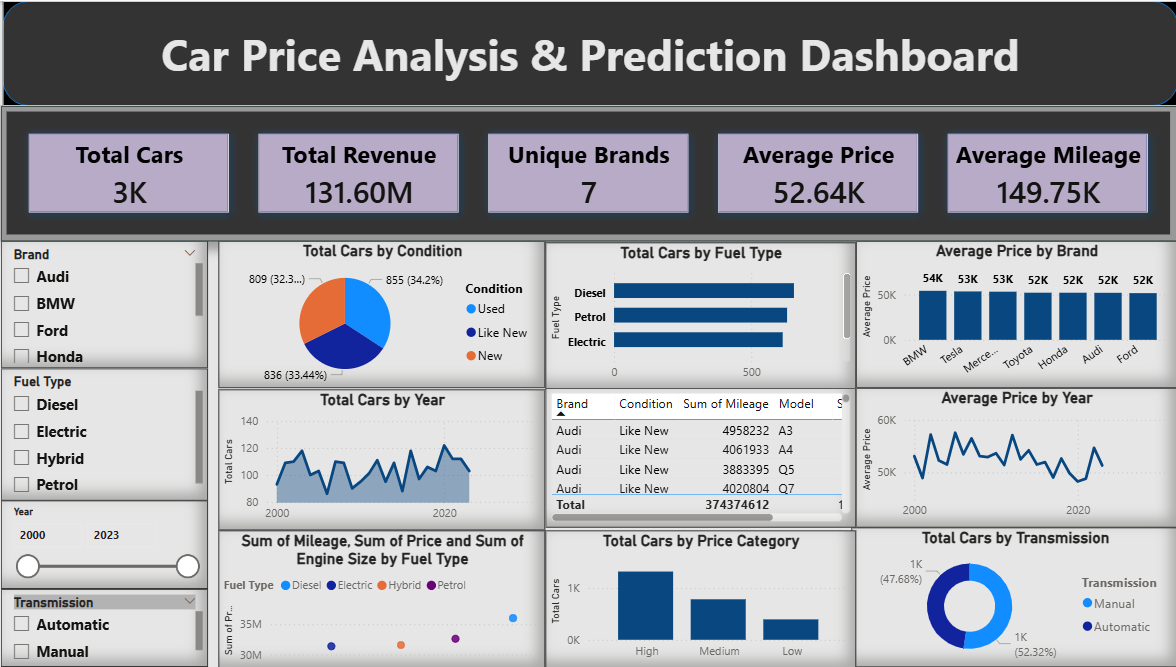

Layout of this report page (visuals, bound fields, positions):
{"tool":"powerbi","page":{"name":"Page 1","canvas":[1280,720],"ordinal":0},"visuals":[{"type":"shape","box":[11.3,0,1269.5,113.3],"z":0},{"type":"cardVisual","fields":{"Data":["car_price_prediction_.Total Cars","car_price_prediction_.Total Revenue","car_price_prediction_.Unique Brands","car_price_prediction_.Average Price","car_price_prediction_.Average Mileage"]},"box":[9.7,113.3,1269.5,145.7],"z":1000},{"type":"clusteredColumnChart","fields":{"Category":["car_price_prediction_.Brand"],"Y":["car_price_prediction_.Average Price"]},"box":[932.7,259.1,346.5,158.7],"z":2000},{"type":"barChart","fields":{"Category":["car_price_prediction_.Fuel Type"],"Y":["car_price_prediction_.Total Cars"]},"box":[597.5,260.7,335.2,158.7],"z":3000},{"type":"pieChart","fields":{"Category":["car_price_prediction_.Condition"],"Y":["car_price_prediction_.Total Cars"]},"box":[244.5,259.1,353,158.7],"z":4000},{"type":"lineChart","fields":{"Y":["car_price_prediction_.Average Price"],"Category":["car_price_prediction_.Year"]},"box":[932.7,417.8,346.5,150.6],"z":5000},{"type":"tableEx","fields":{"Values":["car_price_prediction_.Brand","car_price_prediction_.Condition","Sum(car_price_prediction_.Mileage)","car_price_prediction_.Model","Sum(car_price_prediction_.Price)"]},"box":[597.5,417.8,335.2,150.6],"z":6000},{"type":"slicer","fields":{"Values":["car_price_prediction_.Transmission"]},"box":[9.7,634.7,223.5,84.2],"z":7000},{"type":"slicer","fields":{"Values":["car_price_prediction_.Brand"]},"box":[9.7,259.1,223.5,137.6],"z":8000},{"type":"slicer","fields":{"Values":["car_price_prediction_.Fuel Type"]},"box":[9.7,396.7,223.5,142.5],"z":9000},{"type":"slicer","fields":{"Values":["car_price_prediction_.Year"]},"box":[9.7,539.2,223.5,95.5],"z":10000},{"type":"areaChart","fields":{"Category":["car_price_prediction_.Year"],"Y":["car_price_prediction_.Total Cars"]},"box":[244.5,419.4,353,152.2],"z":11000},{"type":"donutChart","fields":{"Y":["car_price_prediction_.Total Cars"],"Category":["car_price_prediction_.Transmission"]},"box":[927.8,568.3,353,150.6],"z":12000},{"type":"columnChart","fields":{"Category":["car_price_prediction_.Price Category"],"Y":["car_price_prediction_.Total Cars"]},"box":[597.5,571.6,335.2,149],"z":13000},{"type":"scatterChart","fields":{"X":["Sum(car_price_prediction_.Mileage)"],"Y":["Sum(car_price_prediction_.Price)"],"Series":["car_price_prediction_.Fuel Type"],"Size":["Sum(car_price_prediction_.Engine Size)"]},"box":[244.5,571.6,353,149],"z":14000}]}

Visuals, with their boxes in screenshot pixels (x1, y1, x2, y2), scaled from the page's 1280x720 canvas onto the 1176x667 screenshot:
shape: rect(10, 0, 1175, 105)
cardVisual - car_price_prediction_.Total Cars x car_price_prediction_.Total Revenue: rect(9, 105, 1175, 240)
clusteredColumnChart - car_price_prediction_.Brand x car_price_prediction_.Average Price: rect(857, 240, 1175, 387)
barChart - car_price_prediction_.Fuel Type x car_price_prediction_.Total Cars: rect(549, 242, 857, 389)
pieChart - car_price_prediction_.Condition x car_price_prediction_.Total Cars: rect(225, 240, 549, 387)
lineChart - car_price_prediction_.Average Price x car_price_prediction_.Year: rect(857, 387, 1175, 527)
tableEx - car_price_prediction_.Brand x car_price_prediction_.Condition: rect(549, 387, 857, 527)
slicer - car_price_prediction_.Transmission: rect(9, 588, 214, 666)
slicer - car_price_prediction_.Brand: rect(9, 240, 214, 367)
slicer - car_price_prediction_.Fuel Type: rect(9, 367, 214, 500)
slicer - car_price_prediction_.Year: rect(9, 500, 214, 588)
areaChart - car_price_prediction_.Year x car_price_prediction_.Total Cars: rect(225, 389, 549, 530)
donutChart - car_price_prediction_.Total Cars x car_price_prediction_.Transmission: rect(852, 526, 1175, 666)
columnChart - car_price_prediction_.Price Category x car_price_prediction_.Total Cars: rect(549, 530, 857, 666)
scatterChart - Sum(car_price_prediction_.Mileage) x Sum(car_price_prediction_.Price): rect(225, 530, 549, 666)
